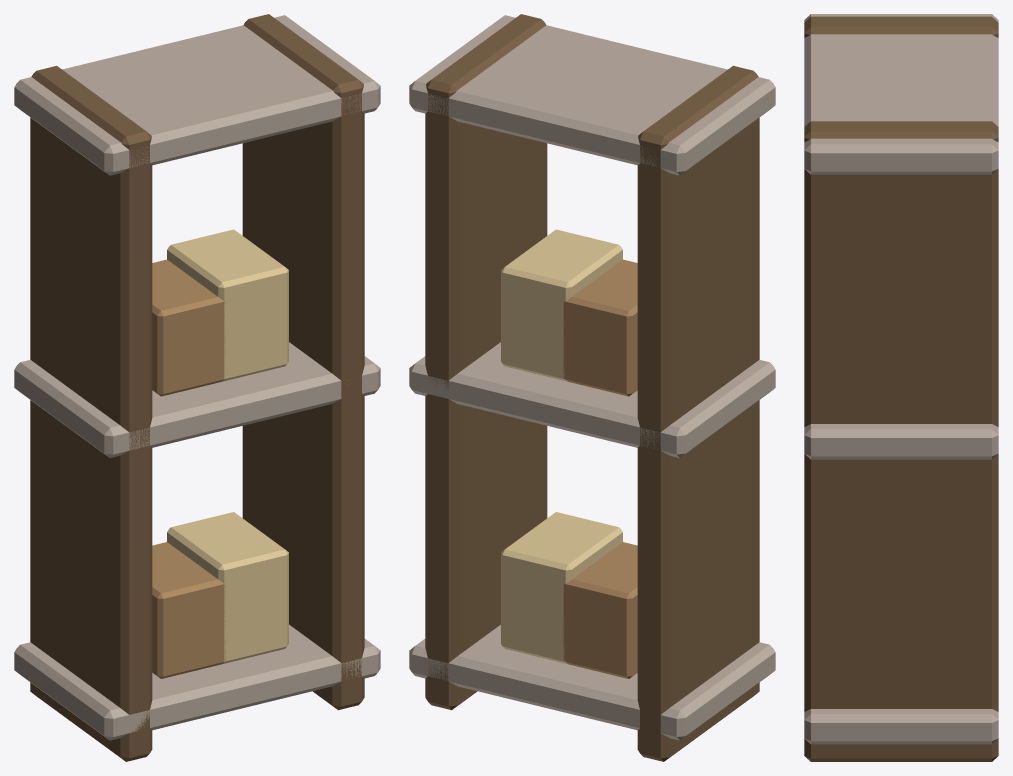
Rendered from shelf.lod1.glb.
3 views of the same model, side by side, from view 1: azimuth 30°, elevation 25°; view 2: azimuth 150°, elevation 25°; view 3: azimuth 270°, elevation 25° (orthographic).
Size of the model in its own units: 0.86 by 1.86 by 0.52.
